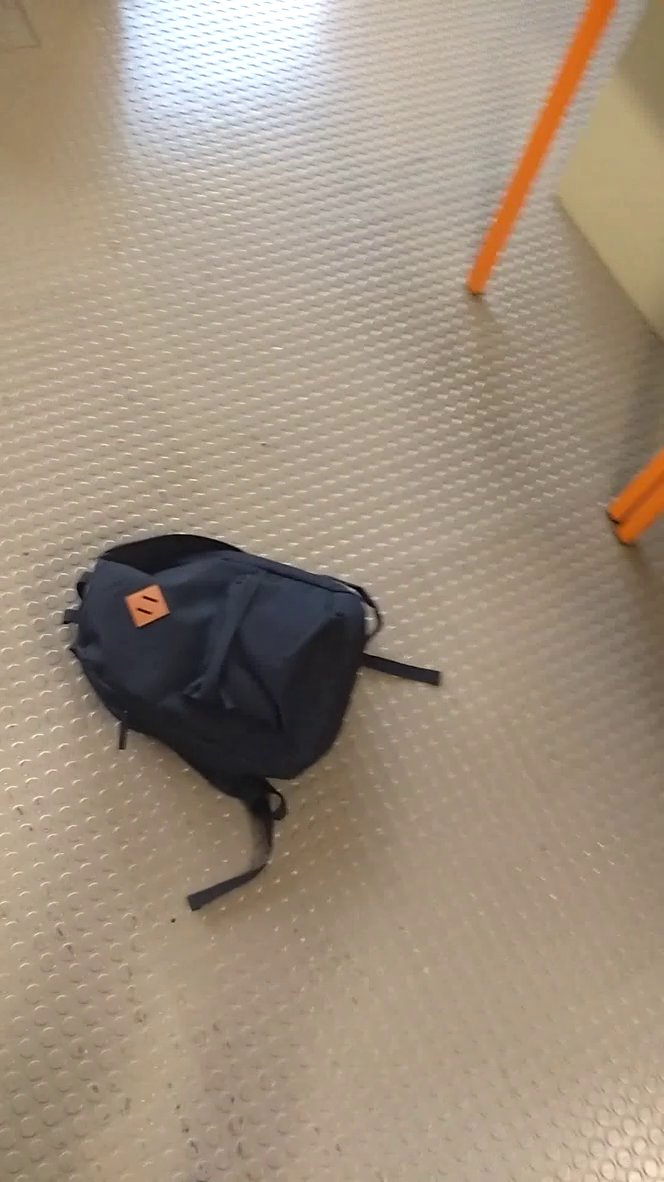bag: (52, 522, 473, 916)
